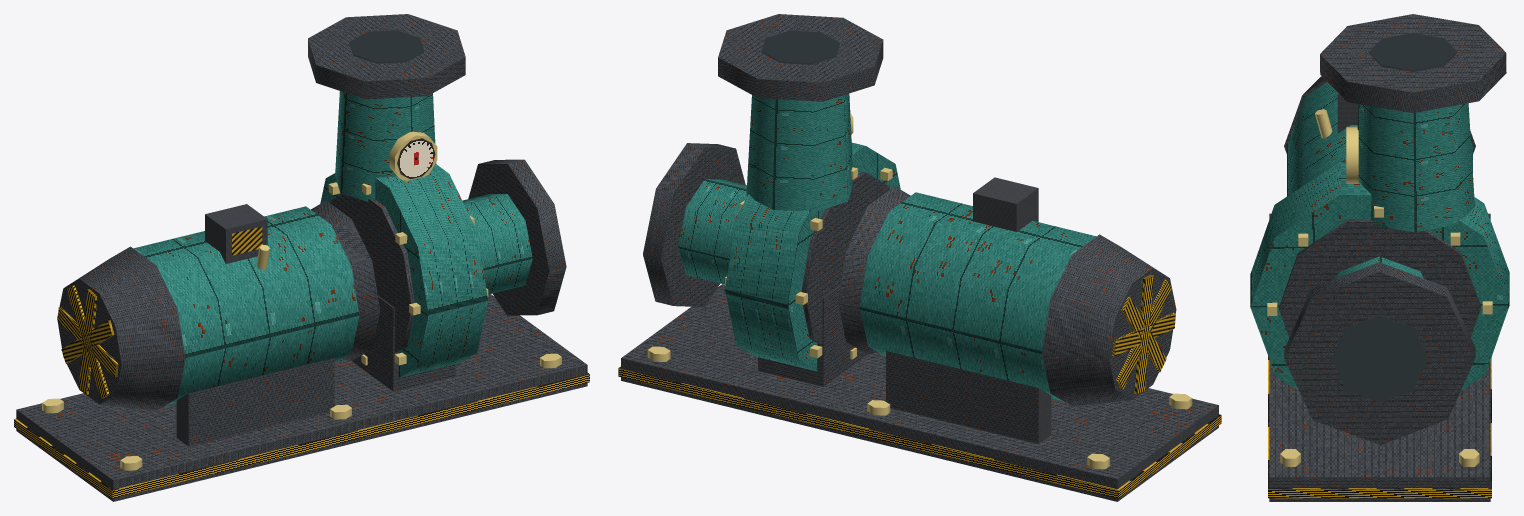
Rendered from large_teal_motor_pump.glb.
3 views of the same model, side by side, from view 1: azimuth 30°, elevation 25°; view 2: azimuth 150°, elevation 25°; view 3: azimuth 270°, elevation 25° (orthographic). The views are drawn at different scales.
Visible parts, largest first — view 1: Steel_Skid_Base, Intake_Discharge_Manifolds, Electric_Motor_Stator, Stator_Core, Centrifugal_Volute_Pump, Junction_Box, PSI_Pressure_Gauge; view 2: Steel_Skid_Base, Intake_Discharge_Manifolds, Electric_Motor_Stator, Stator_Core, Centrifugal_Volute_Pump, Junction_Box; view 3: Intake_Discharge_Manifolds, Centrifugal_Volute_Pump, Steel_Skid_Base, Stator_Core, Junction_Box, PSI_Pressure_Gauge, Electric_Motor_Stator.
Boxes of the visible parts, x1,y1,x2,y2 form: Steel_Skid_Base: (14,294,589,501); Intake_Discharge_Manifolds: (308,14,566,315); Electric_Motor_Stator: (57,200,380,446); Stator_Core: (133,206,359,405); Centrifugal_Volute_Pump: (320,163,488,391); Junction_Box: (205,204,269,270); PSI_Pressure_Gauge: (389,131,437,180); Steel_Skid_Base: (618,284,1221,501); Intake_Discharge_Manifolds: (643,14,883,306); Electric_Motor_Stator: (838,186,1176,443); Stator_Core: (860,192,1096,401); Centrifugal_Volute_Pump: (725,142,900,386); Junction_Box: (973,177,1038,231); Intake_Discharge_Manifolds: (1284,14,1506,444); Centrifugal_Volute_Pump: (1250,161,1509,390); Steel_Skid_Base: (1268,213,1491,501); Stator_Core: (1287,82,1472,196); Junction_Box: (1315,92,1358,138); PSI_Pressure_Gauge: (1346,126,1358,183); Electric_Motor_Stator: (1284,76,1475,153).
Size of the model in its own units: 7.45 by 4.95 by 3.07.
9 materials, 4 textured.
